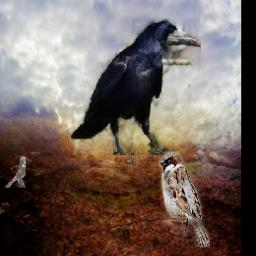Crow: (71, 18, 201, 155)
Sparrow: (159, 152, 210, 248), (6, 155, 27, 189)
